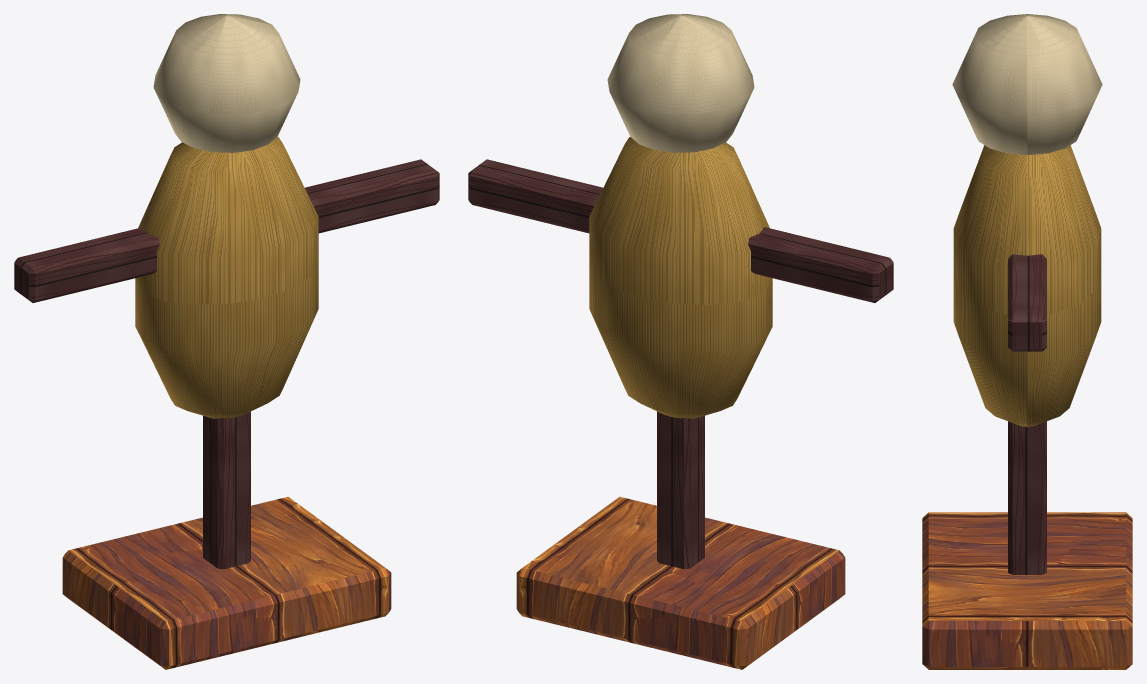
Rendered from Training_Dummy.fbx.
3 views of the same model, side by side, from view 1: azimuth 30°, elevation 25°; view 2: azimuth 150°, elevation 25°; view 3: azimuth 270°, elevation 25° (orthographic).
Parts seen in each view (by area): view 1: Straw torso, Dummy foot, Straw head, Dummy arms, Dummy post; view 2: Straw torso, Dummy foot, Straw head, Dummy arms, Dummy post; view 3: Dummy foot, Straw torso, Straw head, Dummy post, Dummy arms.
Boxes of the visible parts, x1,y1,x2,y2 form: Straw torso: [135, 137, 318, 418]; Dummy foot: [62, 496, 391, 669]; Straw head: [153, 14, 300, 152]; Dummy arms: [14, 159, 439, 302]; Dummy post: [203, 411, 250, 569]; Straw torso: [589, 137, 772, 418]; Dummy foot: [516, 496, 845, 669]; Straw head: [607, 14, 754, 152]; Dummy arms: [468, 159, 893, 302]; Dummy post: [657, 411, 704, 569]; Dummy foot: [922, 512, 1132, 669]; Straw torso: [953, 145, 1101, 426]; Straw head: [952, 14, 1102, 154]; Dummy post: [1008, 421, 1046, 574]; Dummy arms: [1008, 254, 1046, 351].
Bounding box in the file's own units: 160 × 220 × 70.
